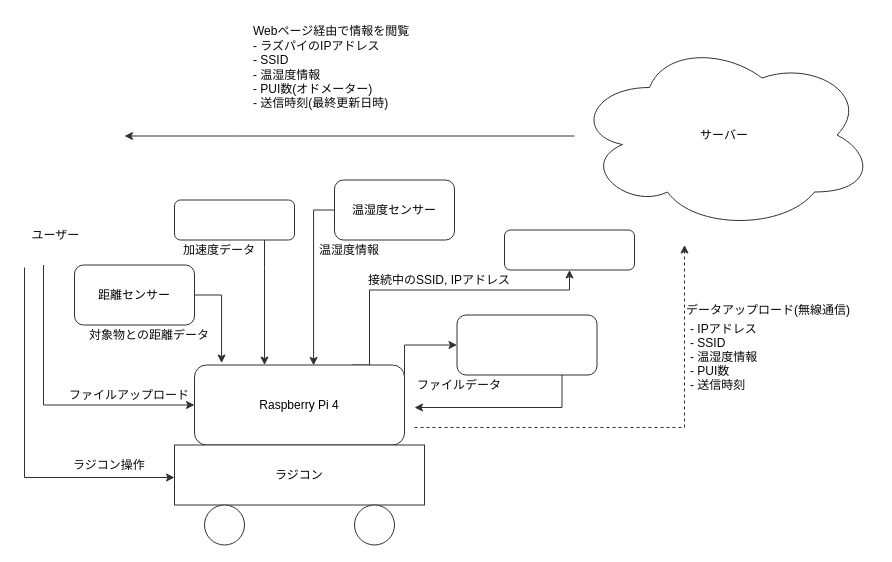
Image size: 892x562. Some labels were removed from this diagram. Each missing label, with the centre of its shape:
"USBフラッシュメモリ" goes at (526,344).
"加速度センサー" goes at (234,219).
"情報表示ディスプレイ" goes at (569,249).
